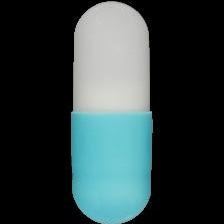68084-107: (0, 0, 224, 224)
